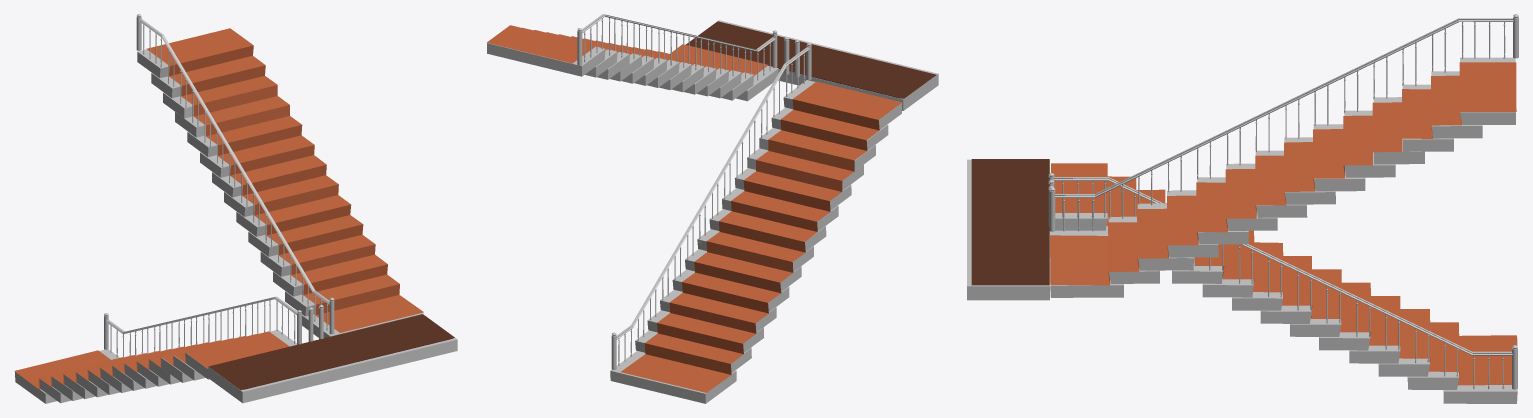
Rendered from lestnica 1.obj.
3 renders of one model, left to right at view 1: azimuth 30°, elevation 25°; view 2: azimuth 150°, elevation 25°; view 3: azimuth 270°, elevation 25°, orthographic. The views are drawn at different scales.
Visible parts, largest first — view 1: carpet_Plane.001_carpet_Plane.002, Куб.001, carpet_Plane.002_carpet_Plane.001, Куб, maniglia_Cube.001, maniglia_Cube.002, Куб.005_Куб.003, Куб.023, Куб.024, Куб.011_Куб.007, Куб.019, Куб.016 (+10 smaller); view 2: carpet_Plane.002_carpet_Plane.001, Куб.001, carpet_Plane.001_carpet_Plane.002, maniglia_Cube.002, maniglia_Cube.001, Куб.024, Куб.005_Куб.003, Куб, Куб.023, Куб.042_Куб.044, Куб.033, Куб.036_Куб.040 (+10 smaller); view 3: carpet_Plane.001_carpet_Plane.002, carpet_Plane.002_carpet_Plane.001, Куб.001, maniglia_Cube.001, maniglia_Cube.002, Куб, Куб.023, Куб.024, Куб.005_Куб.003, Куб.014, Куб.042_Куб.044, Куб.033 (+19 smaller).
Boxes of the visible parts, x1,y1,x2,y2 form: carpet_Plane.001_carpet_Plane.002: (146,28,423,332); Куб.001: (208,314,454,389); carpet_Plane.002_carpet_Plane.001: (14,331,289,389); Куб: (208,315,457,403); maniglia_Cube.001: (138,18,329,330); maniglia_Cube.002: (106,296,297,357); Куб.005_Куб.003: (137,49,169,78); Куб.023: (302,313,423,337); Куб.024: (15,349,119,403); Куб.011_Куб.007: (163,92,193,118); Куб.019: (260,251,290,276); Куб.016: (224,192,254,216); carpet_Plane.002_carpet_Plane.001: (620,81,902,392); Куб.001: (686,21,936,98); carpet_Plane.001_carpet_Plane.002: (487,25,768,75); maniglia_Cube.002: (616,47,809,365); maniglia_Cube.001: (582,14,775,80); Куб.024: (610,351,736,403); Куб.005_Куб.003: (487,43,605,76); Куб: (694,20,938,110); Куб.023: (736,66,778,101); Куб.042_Куб.044: (783,80,901,129); Куб.033: (722,188,838,231); Куб.036_Куб.040: (759,128,875,170); carpet_Plane.001_carpet_Plane.002: (1050,62,1516,285); carpet_Plane.002_carpet_Plane.001: (1051,163,1517,385); Куб.001: (971,159,1049,285); maniglia_Cube.001: (1054,18,1513,231); maniglia_Cube.002: (1053,177,1512,389); Куб: (967,159,1049,300); Куб.023: (1050,230,1123,297); Куб.024: (1443,337,1517,403); Куб.005_Куб.003: (1460,57,1515,124); Куб.014: (1313,124,1365,191); Куб.042_Куб.044: (1055,213,1107,230); Куб.033: (1202,278,1253,297).
Size of what is drawn, in the model's own units: 20.58 by 30.64 by 37.62.
